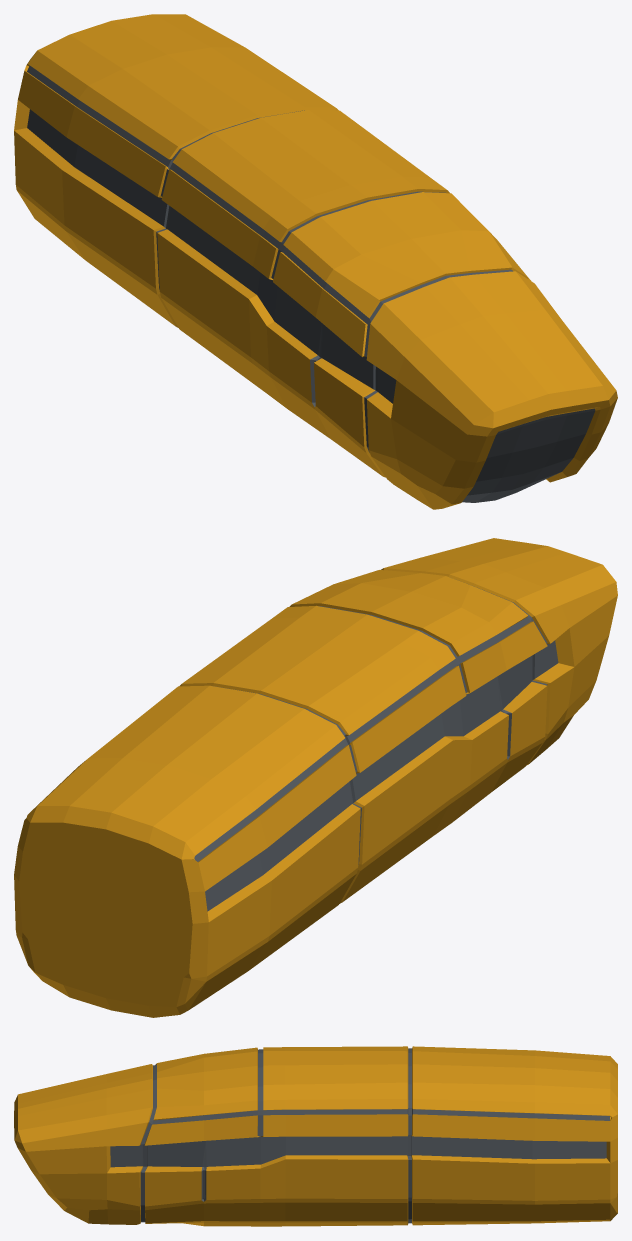
The model's file is Dropship_04_Body_Yellow.fbx.
The picture shows the model from 3 angles, top to bottom: view 1: azimuth 30°, elevation 25°; view 2: azimuth 150°, elevation 25°; view 3: azimuth 270°, elevation 25°; orthographic projection. The views are drawn at different scales.
Parts seen in each view (by area): view 1: Dropship_04_Body_Yellow; view 2: Dropship_04_Body_Yellow; view 3: Dropship_04_Body_Yellow.
Boxes of the visible parts, x1=… form: Dropship_04_Body_Yellow: x1=14, y1=14, x2=617, y2=509; Dropship_04_Body_Yellow: x1=14, y1=538, x2=617, y2=1017; Dropship_04_Body_Yellow: x1=14, y1=1046, x2=617, y2=1226.
Bounding box in the file's own units: 361 × 358 × 1327.
Materials: 1 (1 with a texture image).
